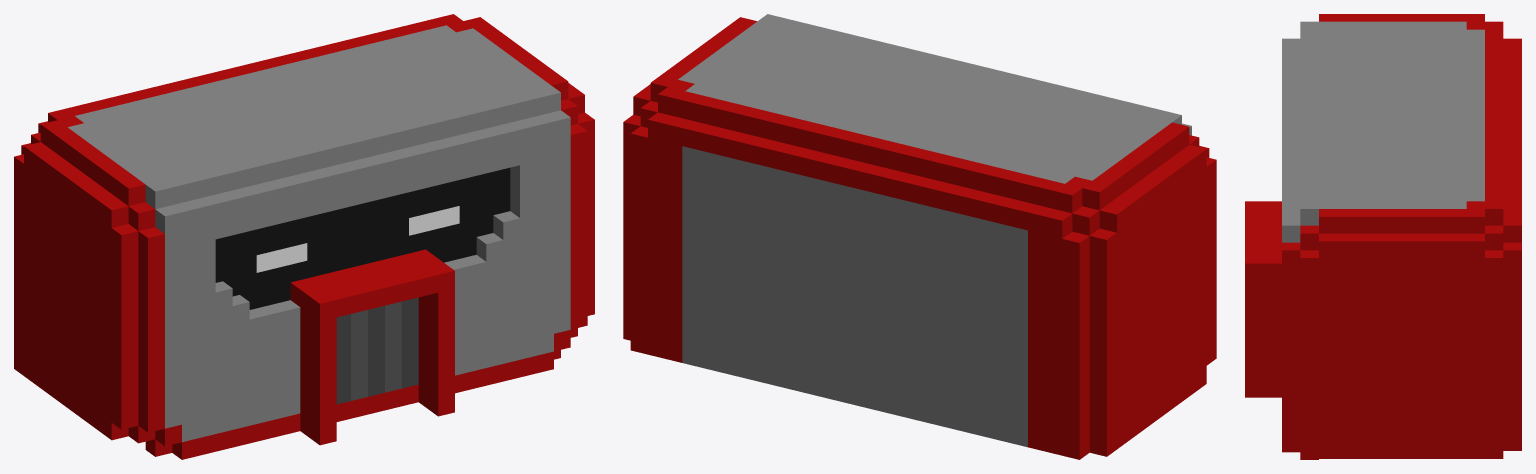
Rendered from RbtHead.obj.
3 views of the same model, side by side, from view 1: azimuth 30°, elevation 25°; view 2: azimuth 150°, elevation 25°; view 3: azimuth 270°, elevation 25° (orthographic). The views are drawn at different scales.
Bounding box in the file's own units: 28 × 15 × 15.
1 material, 1 textured.
